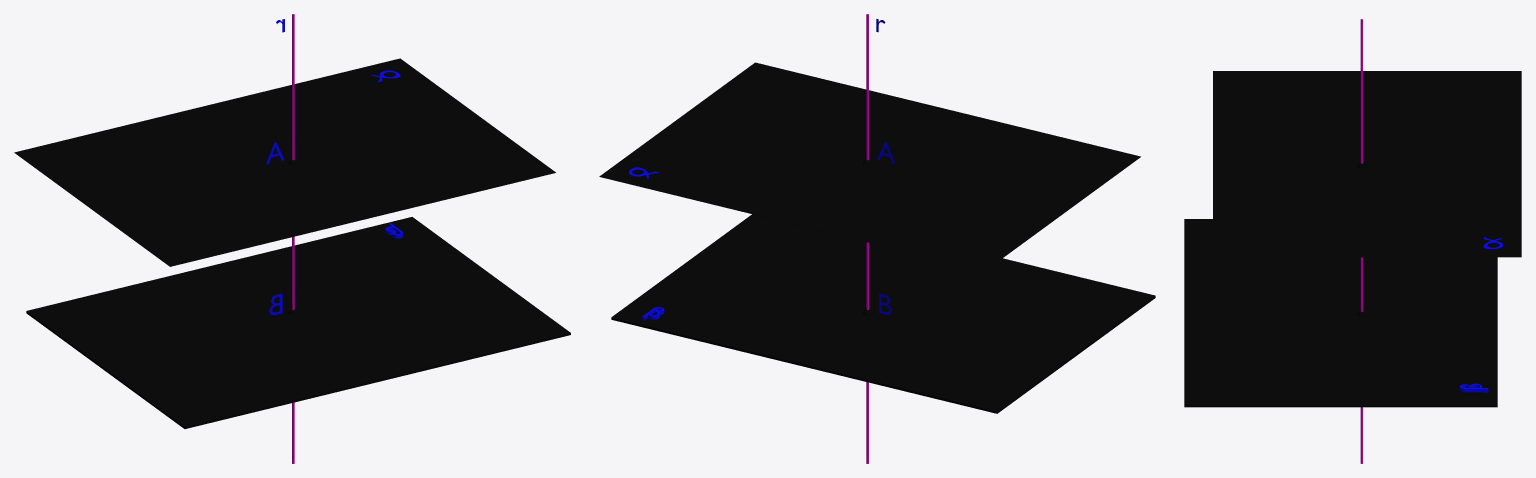
The picture shows the model from 3 angles, left to right: view 1: azimuth 30°, elevation 25°; view 2: azimuth 150°, elevation 25°; view 3: azimuth 270°, elevation 25°; orthographic projection.
Visible parts, largest first — view 1: node_id8, node_id14, node_id17; view 2: node_id14, node_id8, node_id17; view 3: node_id14, node_id8, node_id17.
Part boxes in pixels (left/top/right/bottom): node_id8: left=26, top=217, right=570, bottom=428; node_id14: left=14, top=58, right=555, bottom=266; node_id17: left=292, top=14, right=294, bottom=463; node_id14: left=599, top=62, right=1140, bottom=270; node_id8: left=611, top=214, right=1155, bottom=413; node_id17: left=866, top=14, right=868, bottom=463; node_id14: left=1213, top=71, right=1521, bottom=257; node_id8: left=1184, top=219, right=1497, bottom=407; node_id17: left=1360, top=19, right=1362, bottom=463.
Size of the model in its own units: 0.4609 by 0.512 by 0.3526.
Materials: 11 (11 with a texture image).
